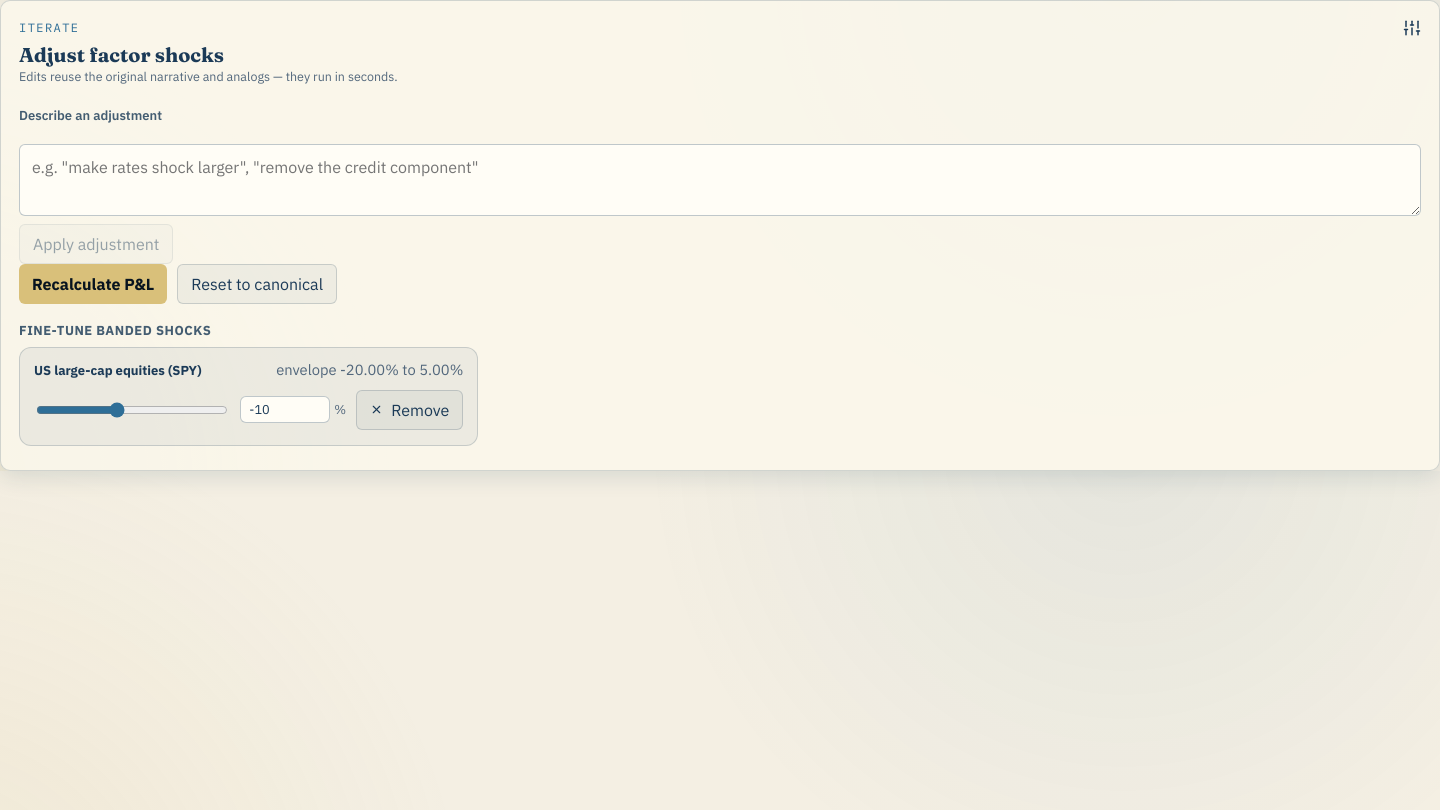
Test: AdjustmentPanel error dispatch › classifies rerun_required via the error kind, not the detail text
Replace the text in the text box labelled "Describe an adjustment" with "add an oil shock" at coordinates (720, 180), box [19,144,1421,216]
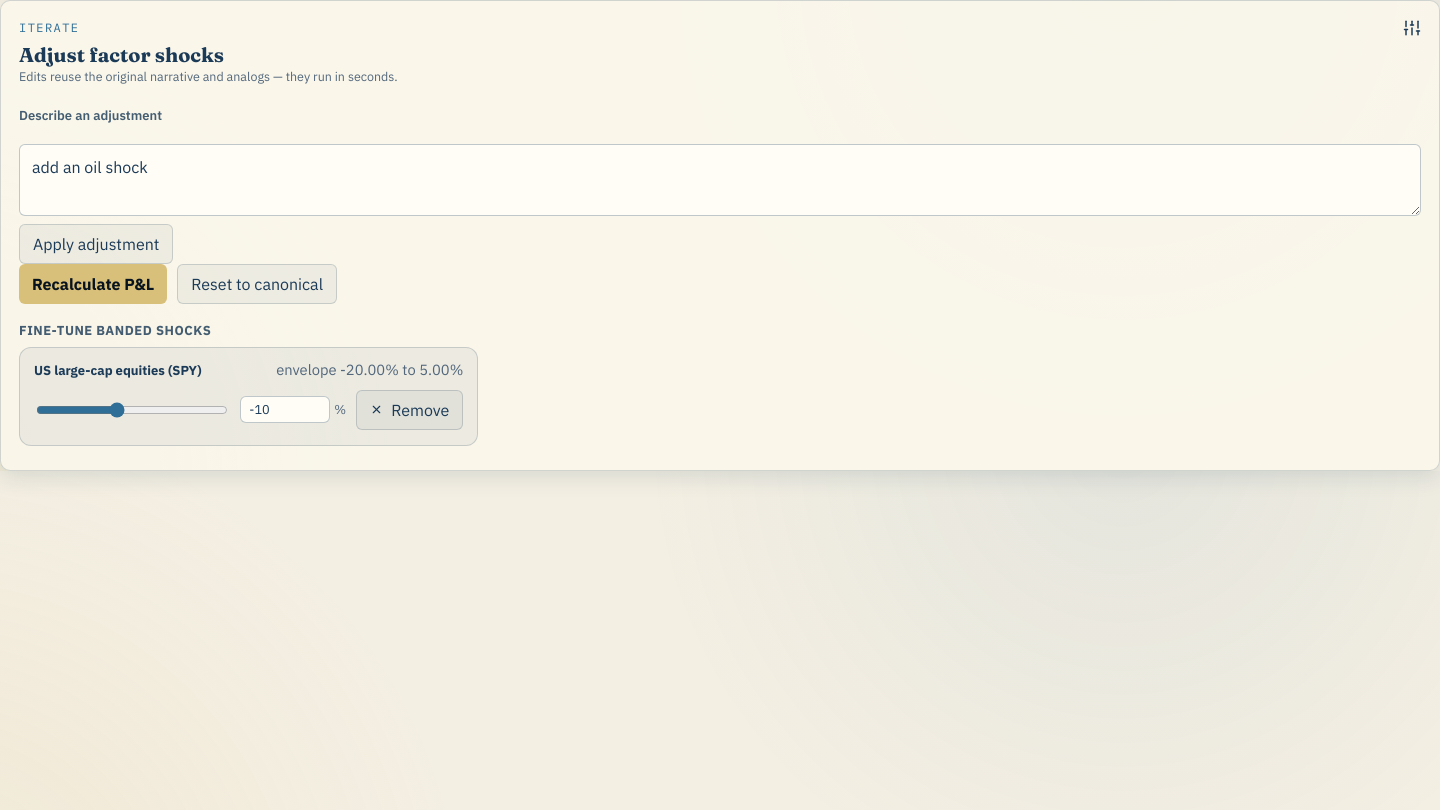
Click the button "Apply adjustment" at coordinates (96, 244), box [19,224,173,264]
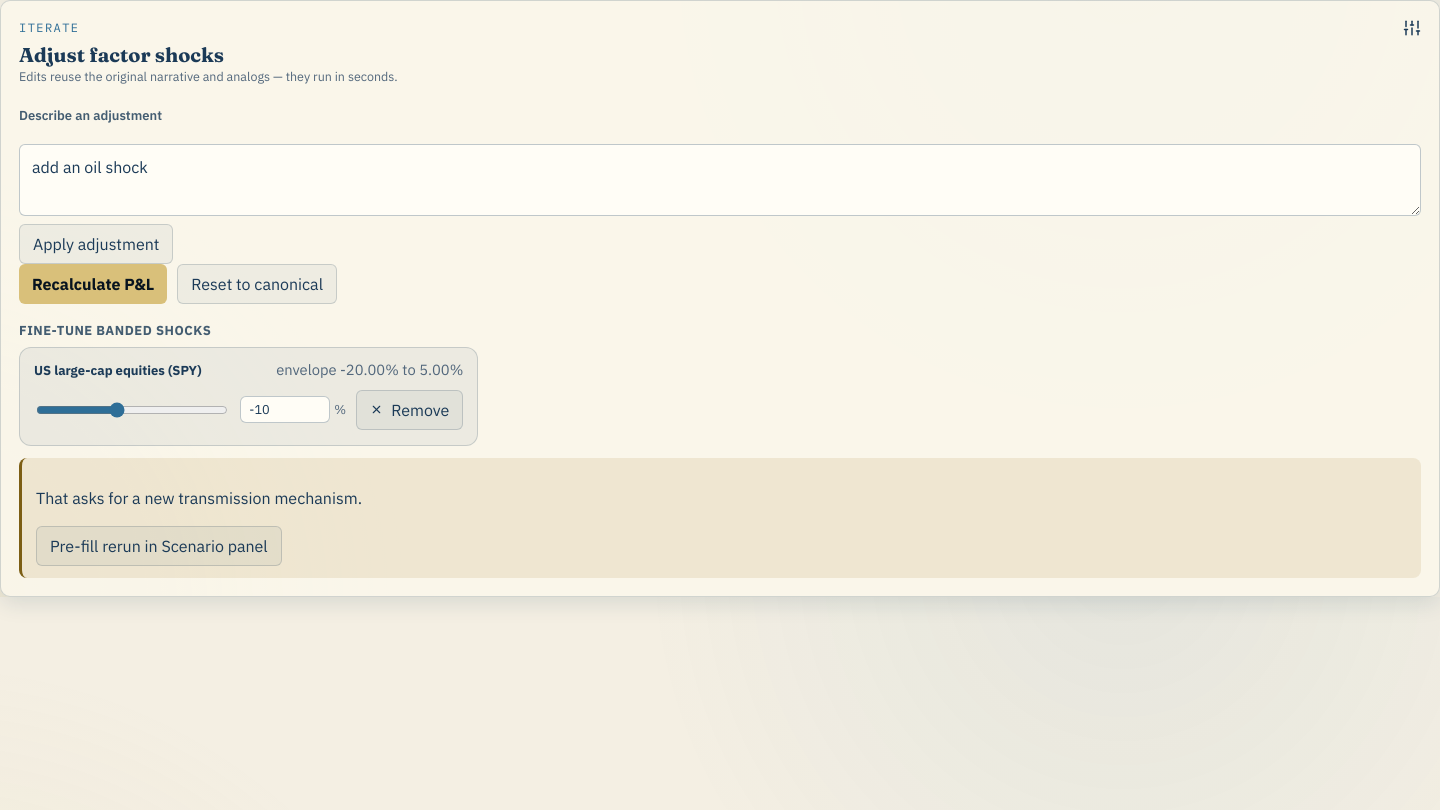
Expected: the text "That asks for a new transmission mechanism." is shown, [36,488,362,508]
Expected: the button "Pre-fill rerun in Scenario panel" is shown, [36,526,282,566]
